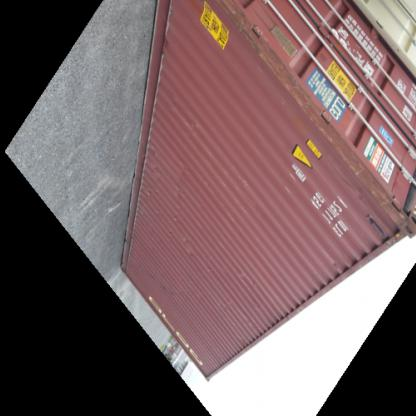Damage: (310, 108, 394, 222), (239, 17, 315, 115)
